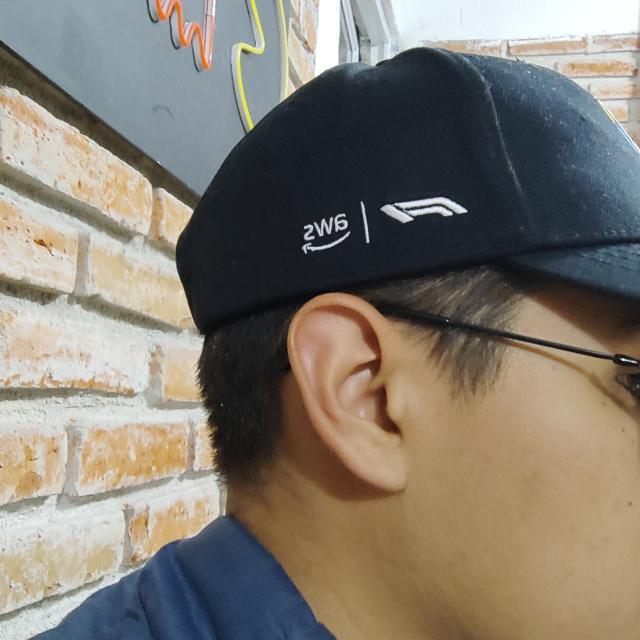ear: (288, 294, 406, 492)
